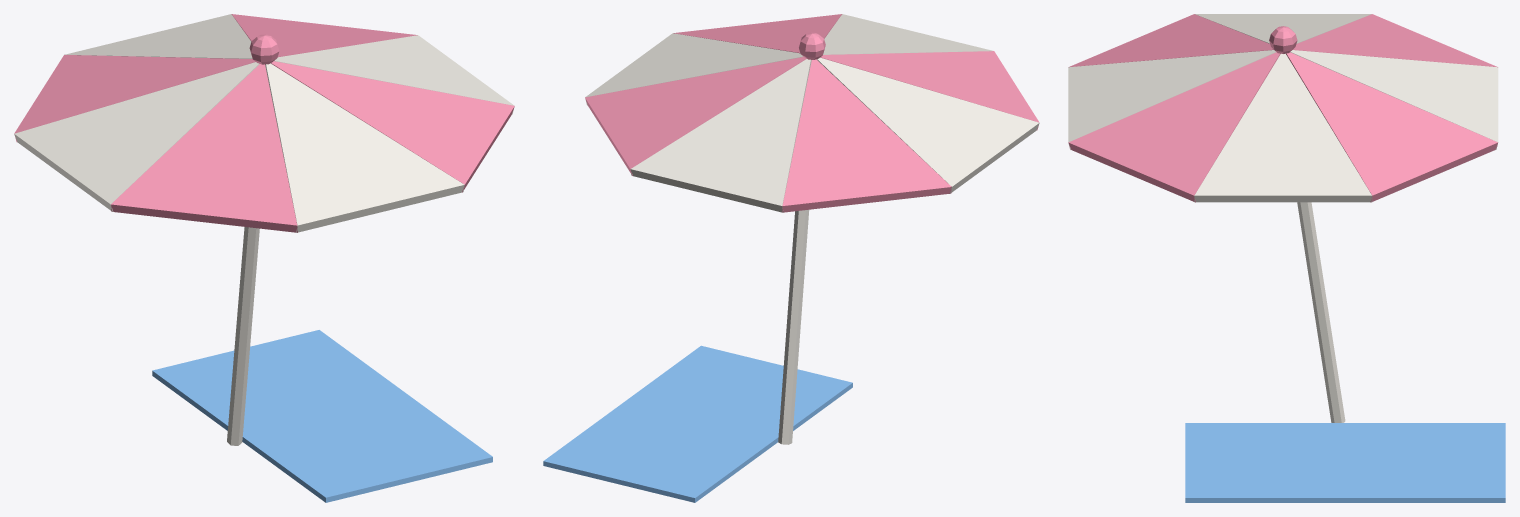
Rendered from prop_umbrella.glb.
The picture shows the model from 3 angles, left to right: view 1: azimuth 30°, elevation 25°; view 2: azimuth 150°, elevation 25°; view 3: azimuth 270°, elevation 25°; orthographic projection. The views are drawn at different scales.
Visible parts, largest first — view 1: prop_umbrella; view 2: prop_umbrella; view 3: prop_umbrella.
Part boxes in pixels (x1=…): prop_umbrella: x1=14, y1=14, x2=514, y2=502; prop_umbrella: x1=543, y1=14, x2=1039, y2=502; prop_umbrella: x1=1068, y1=14, x2=1505, y2=502.
Bounding box in the file's own units: 2.42 × 2.46 × 2.46.
